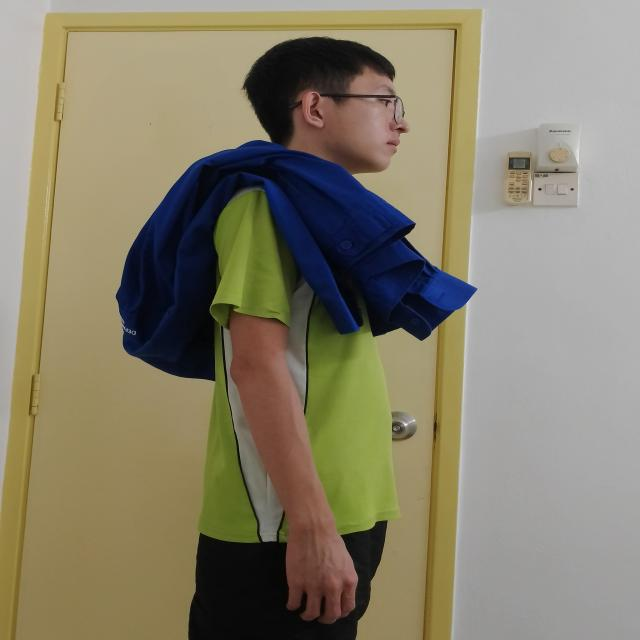person_without_labcoat: (117, 37, 476, 640)
